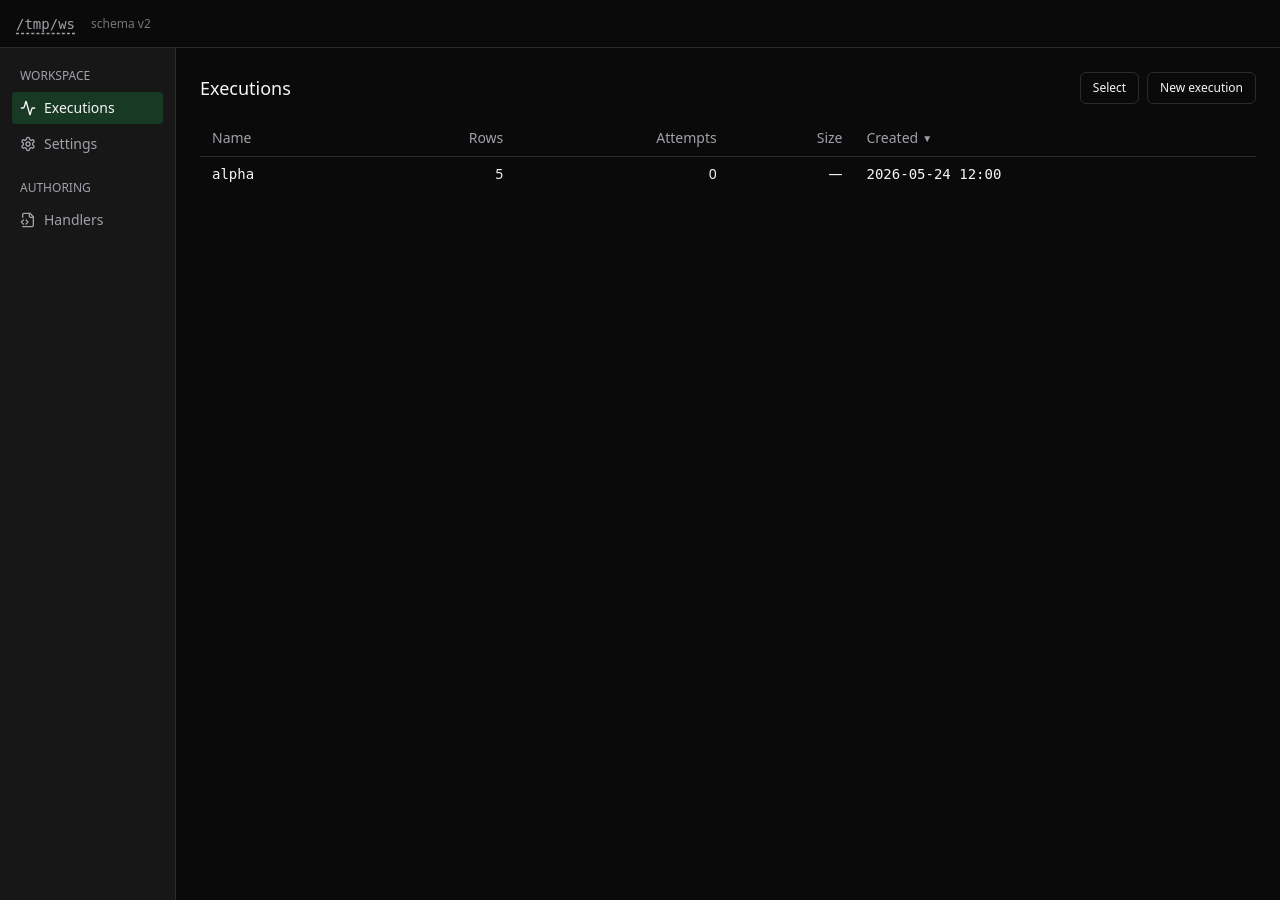
Test: ExecList — Select mode › clicking Delete N opens confirmation dialog when executions are selected
Expected: the text "alpha" is shown, [200,156,367,192]
Note: Enter select mode
Click the button "Select": (1109, 88) [1080,72,1139,104]
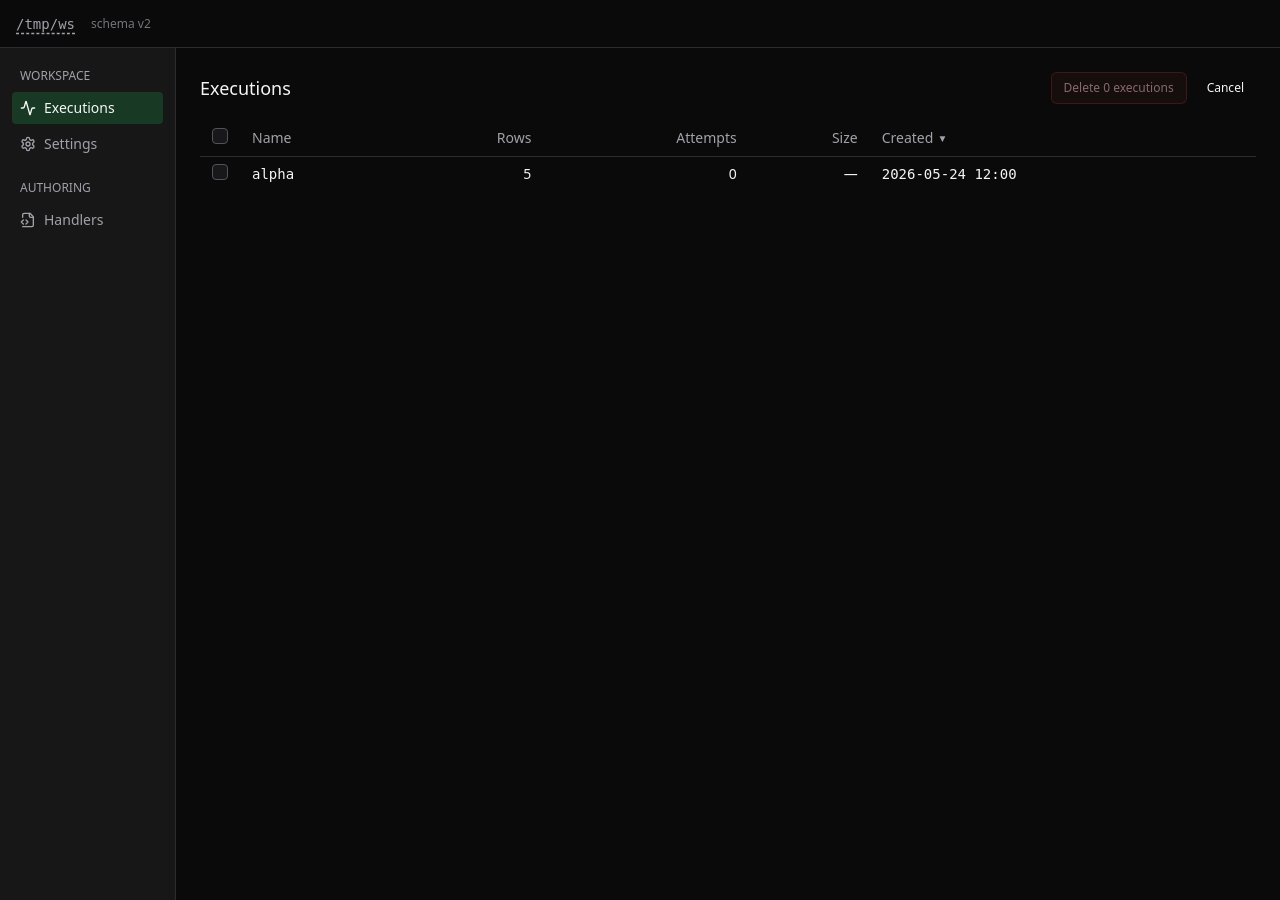
Expected: the number of checkboxes is 2
Click the checkbox named "Select alpha": (220, 172) [212,164,228,180]
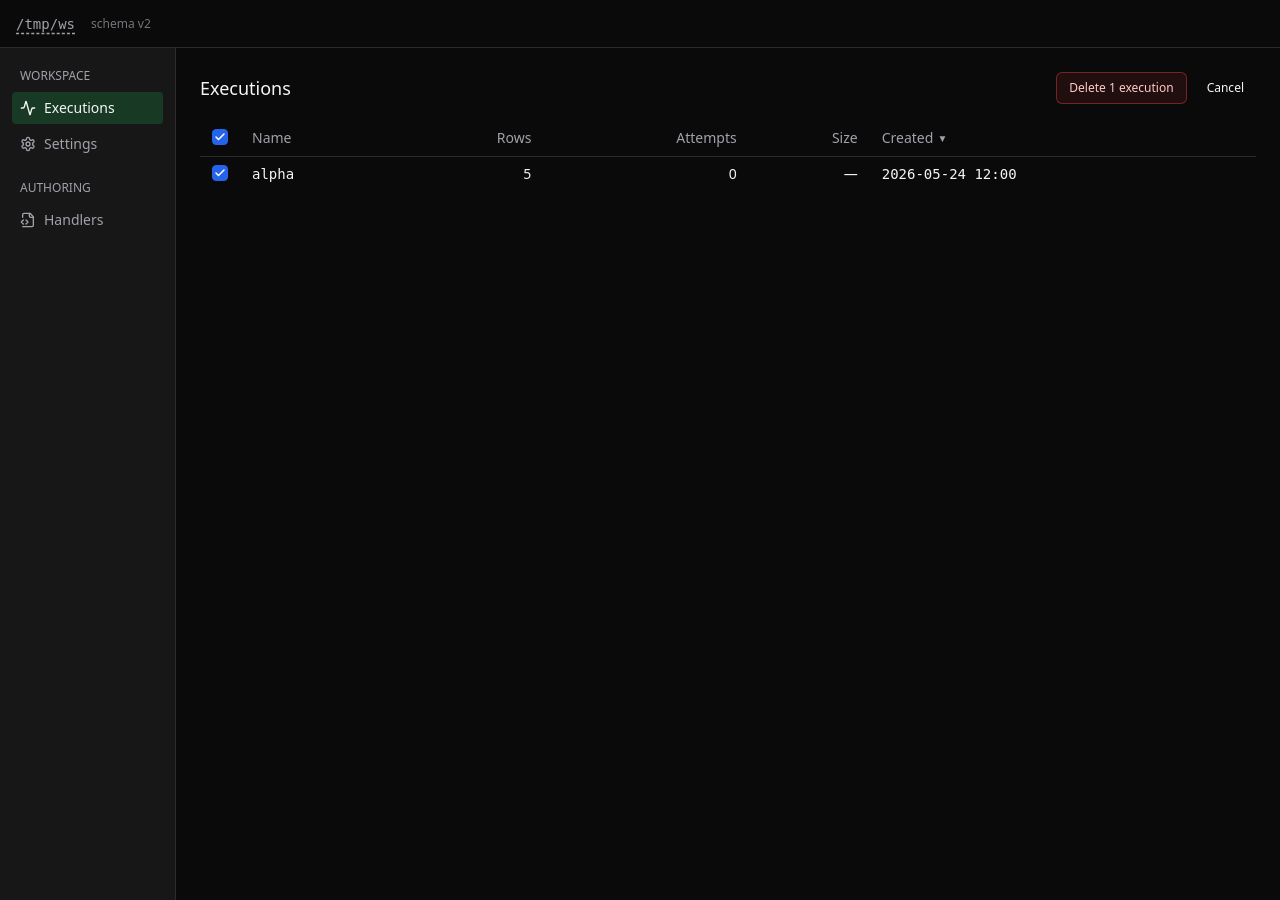
Expected: the button "Delete 1 execution" is enabled
Click the button "Delete 1 execution": (1121, 88) [1056,72,1187,104]
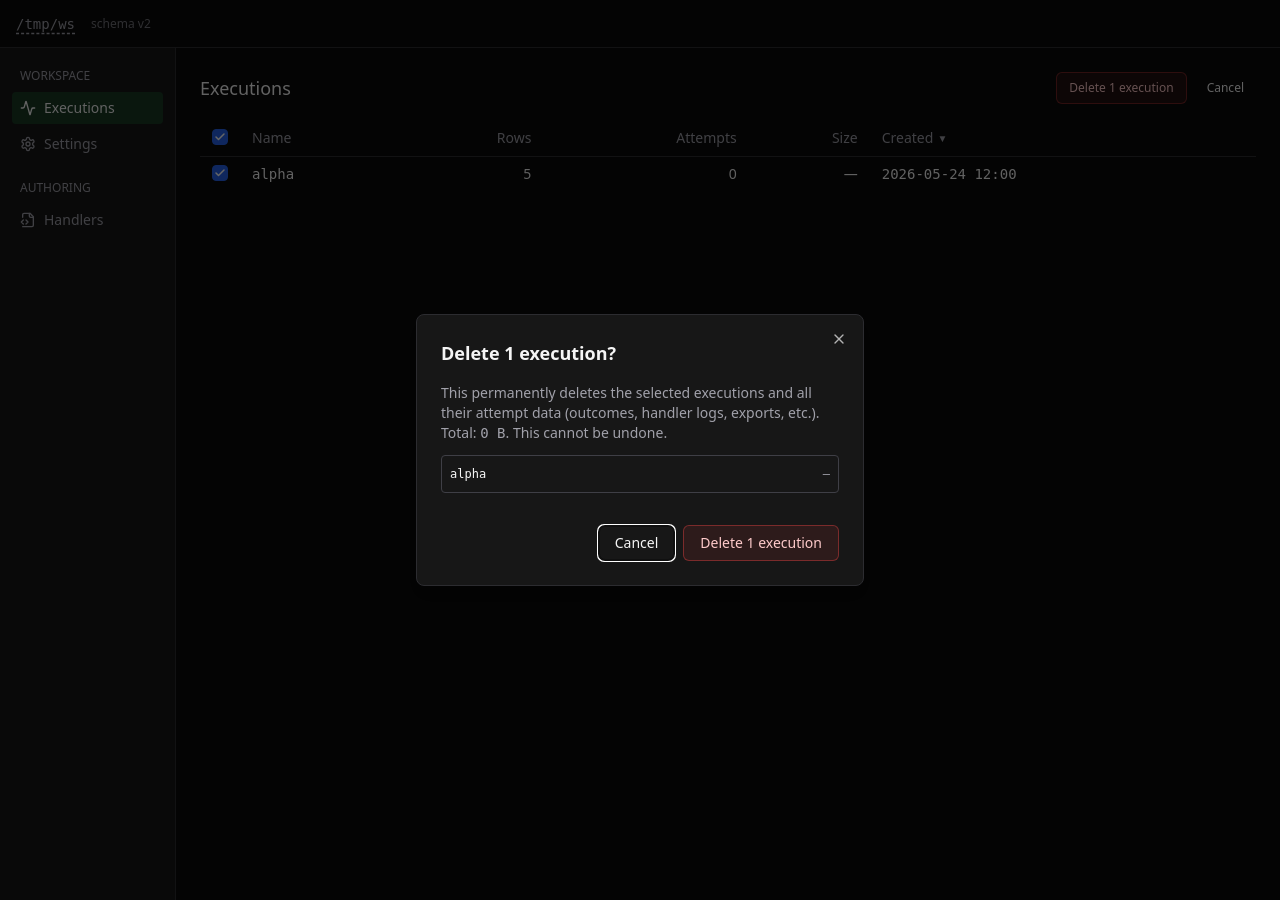
Expected: the dialog is shown, [416,314,864,586]
